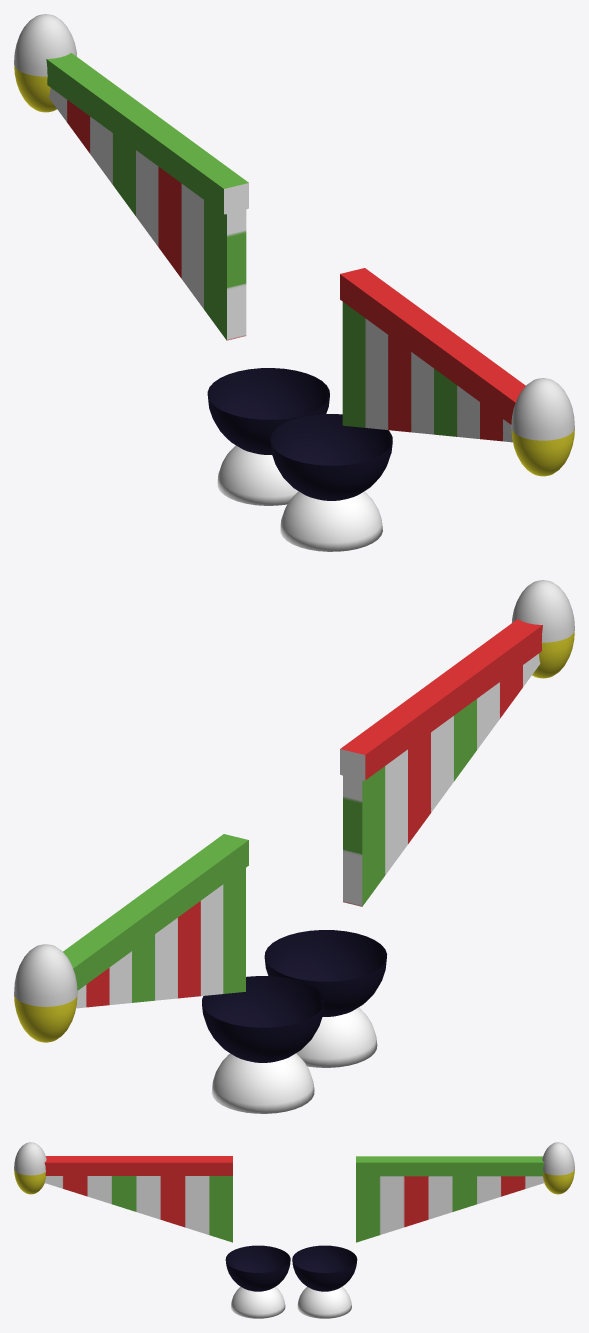
Rendered from JetPack.fbx.
3 views of the same model, one above another, from view 1: azimuth 30°, elevation 25°; view 2: azimuth 150°, elevation 25°; view 3: azimuth 270°, elevation 25° (orthographic). The views are drawn at different scales.
Visible parts, largest first — view 1: Cube.104, Cube.105, Sphere.004, Sphere.006, Sphere.005, Sphere.007, Sphere.002, Sphere, Sphere.003, Sphere.001; view 2: Cube.105, Cube.104, Sphere.006, Sphere.004, Sphere.007, Sphere.005, Sphere, Sphere.002, Sphere.001, Sphere.003; view 3: Cube.104, Cube.105, Sphere.004, Sphere.006, Sphere.007, Sphere.005, Sphere, Sphere.002, Sphere.003, Sphere.001.
Part boxes in pixels (x1=…): Cube.104: x1=46, y1=53, x2=248, y2=340; Cube.105: x1=340, y1=268, x2=525, y2=442; Sphere.004: x1=270, y1=414, x2=392, y2=500; Sphere.006: x1=207, y1=368, x2=329, y2=454; Sphere.005: x1=280, y1=491, x2=382, y2=551; Sphere.007: x1=217, y1=445, x2=298, y2=505; Sphere.002: x1=511, y1=378, x2=574, y2=440; Sphere: x1=14, y1=14, x2=76, y2=76; Sphere.003: x1=511, y1=429, x2=574, y2=476; Sphere.001: x1=14, y1=66, x2=56, y2=112; Cube.105: x1=340, y1=619, x2=542, y2=906; Cube.104: x1=63, y1=834, x2=248, y2=1008; Sphere.006: x1=202, y1=976, x2=324, y2=1062; Sphere.004: x1=264, y1=930, x2=387, y2=1016; Sphere.007: x1=211, y1=1053, x2=314, y2=1113; Sphere.005: x1=296, y1=1007, x2=377, y2=1067; Sphere: x1=14, y1=944, x2=77, y2=1006; Sphere.002: x1=512, y1=580, x2=574, y2=642; Sphere.001: x1=14, y1=995, x2=77, y2=1042; Sphere.003: x1=532, y1=632, x2=574, y2=678; Cube.104: x1=356, y1=1156, x2=544, y2=1242; Cube.105: x1=44, y1=1156, x2=232, y2=1242; Sphere.004: x1=225, y1=1245, x2=290, y2=1291; Sphere.006: x1=292, y1=1245, x2=357, y2=1291; Sphere.007: x1=297, y1=1286, x2=351, y2=1318; Sphere.005: x1=231, y1=1286, x2=285, y2=1318; Sphere: x1=542, y1=1142, x2=574, y2=1175; Sphere.002: x1=14, y1=1142, x2=46, y2=1175; Sphere.003: x1=14, y1=1169, x2=46, y2=1194; Sphere.001: x1=543, y1=1169, x2=574, y2=1194.
Size of the model in its own units: 139 by 384 by 1194.
